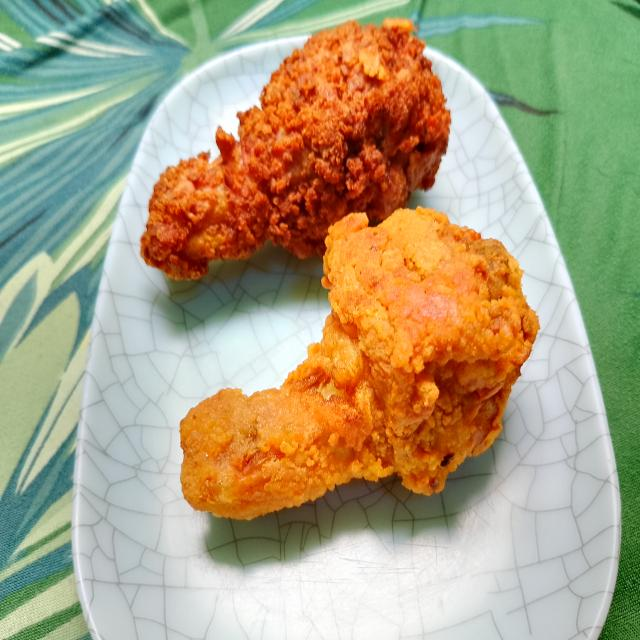Chicken -Fried Chicken-: (164, 196, 544, 528), (129, 12, 455, 288)
